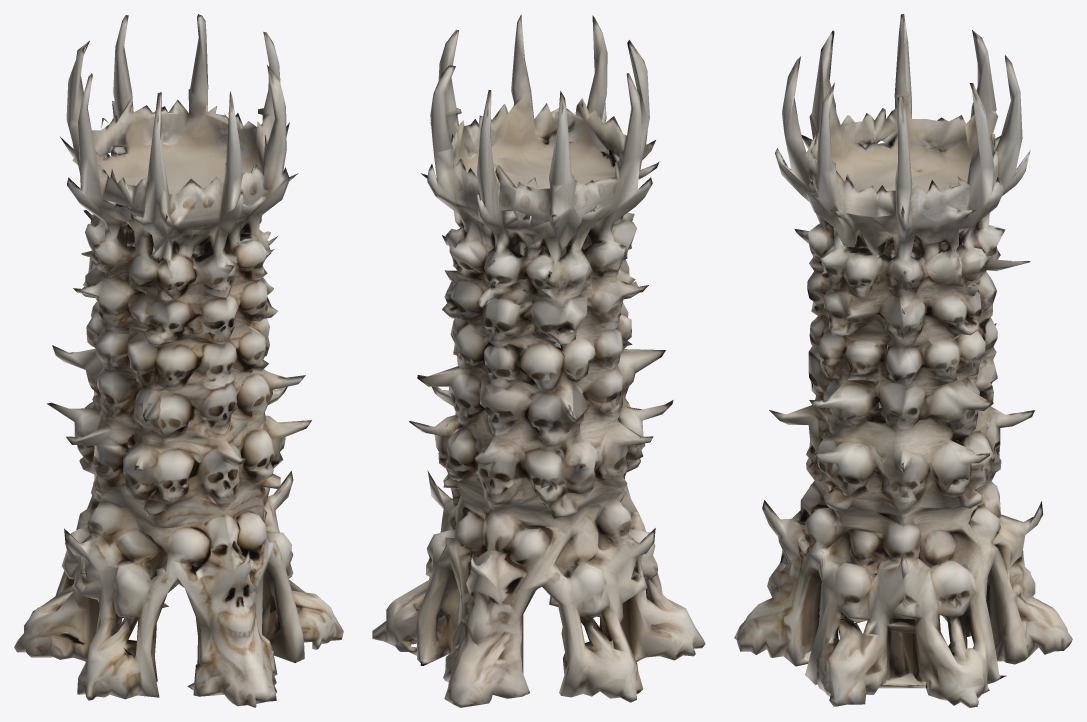
Rendered from Rook.fbx.
3 views of the same model, side by side, from view 1: azimuth 30°, elevation 25°; view 2: azimuth 150°, elevation 25°; view 3: azimuth 270°, elevation 25° (orthographic).
Parts seen in each view (by area): view 1: Mesh_0; view 2: Mesh_0; view 3: Mesh_0.
Part boxes in pixels (box(x1,y1,x2,y2)): Mesh_0: box(14, 14, 343, 707); Mesh_0: box(372, 14, 705, 707); Mesh_0: box(734, 14, 1072, 707).
Size of the model in its own units: 93.04 by 200 by 104.
Materials: 1 (1 with a texture image).
